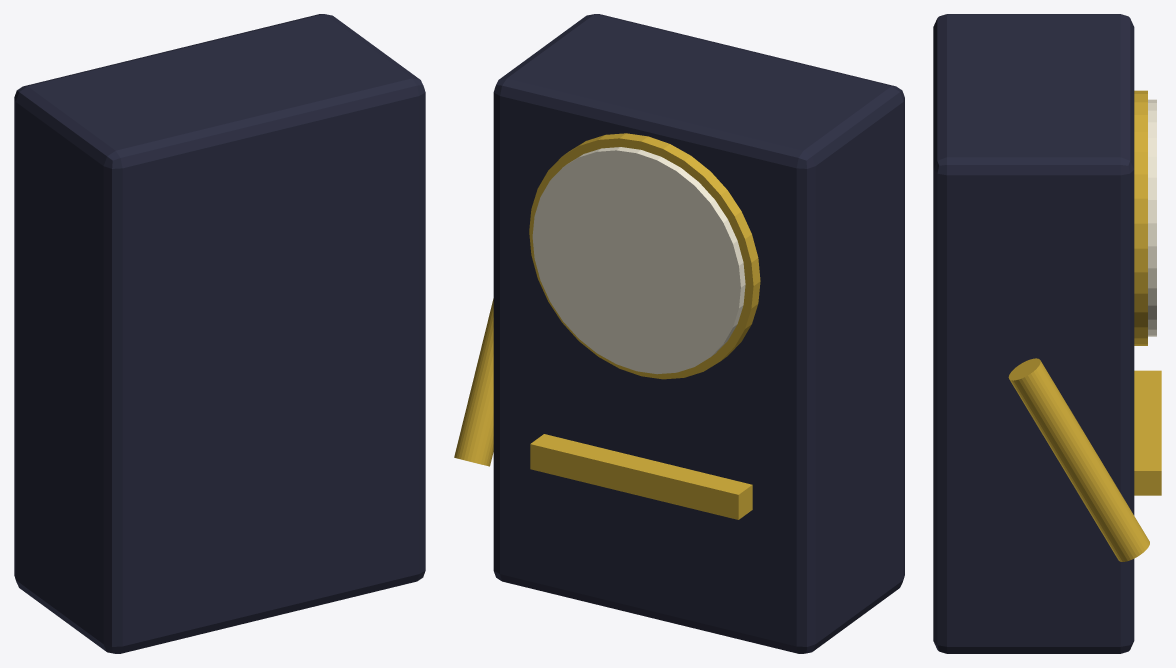
Rendered from time_clock_84.glb.
The picture shows the model from 3 angles, left to right: view 1: azimuth 30°, elevation 25°; view 2: azimuth 150°, elevation 25°; view 3: azimuth 270°, elevation 25°; orthographic projection.
Visible parts, largest first — view 1: TimeClock_Body; view 2: TimeClock_Body, TimeClock_Dial, TimeClock_Slot, TimeClock_Ring, TimeClock_Lever; view 3: TimeClock_Body, TimeClock_Lever, TimeClock_Ring, TimeClock_Slot, TimeClock_Dial.
Part boxes in pixels (x1=…): TimeClock_Body: x1=14, y1=14, x2=425, y2=653; TimeClock_Body: x1=493, y1=14, x2=904, y2=653; TimeClock_Dial: x1=532, y1=147, x2=745, y2=374; TimeClock_Slot: x1=530, y1=434, x2=752, y2=519; TimeClock_Ring: x1=529, y1=133, x2=760, y2=379; TimeClock_Lever: x1=454, y1=298, x2=493, y2=466; TimeClock_Body: x1=933, y1=14, x2=1134, y2=653; TimeClock_Lever: x1=1008, y1=358, x2=1149, y2=561; TimeClock_Ring: x1=1134, y1=90, x2=1147, y2=345; TimeClock_Slot: x1=1134, y1=370, x2=1161, y2=495; TimeClock_Dial: x1=1148, y1=99, x2=1156, y2=336.
Size of what is drawn, in the model's own units: 0.44 by 0.6 by 0.25.
